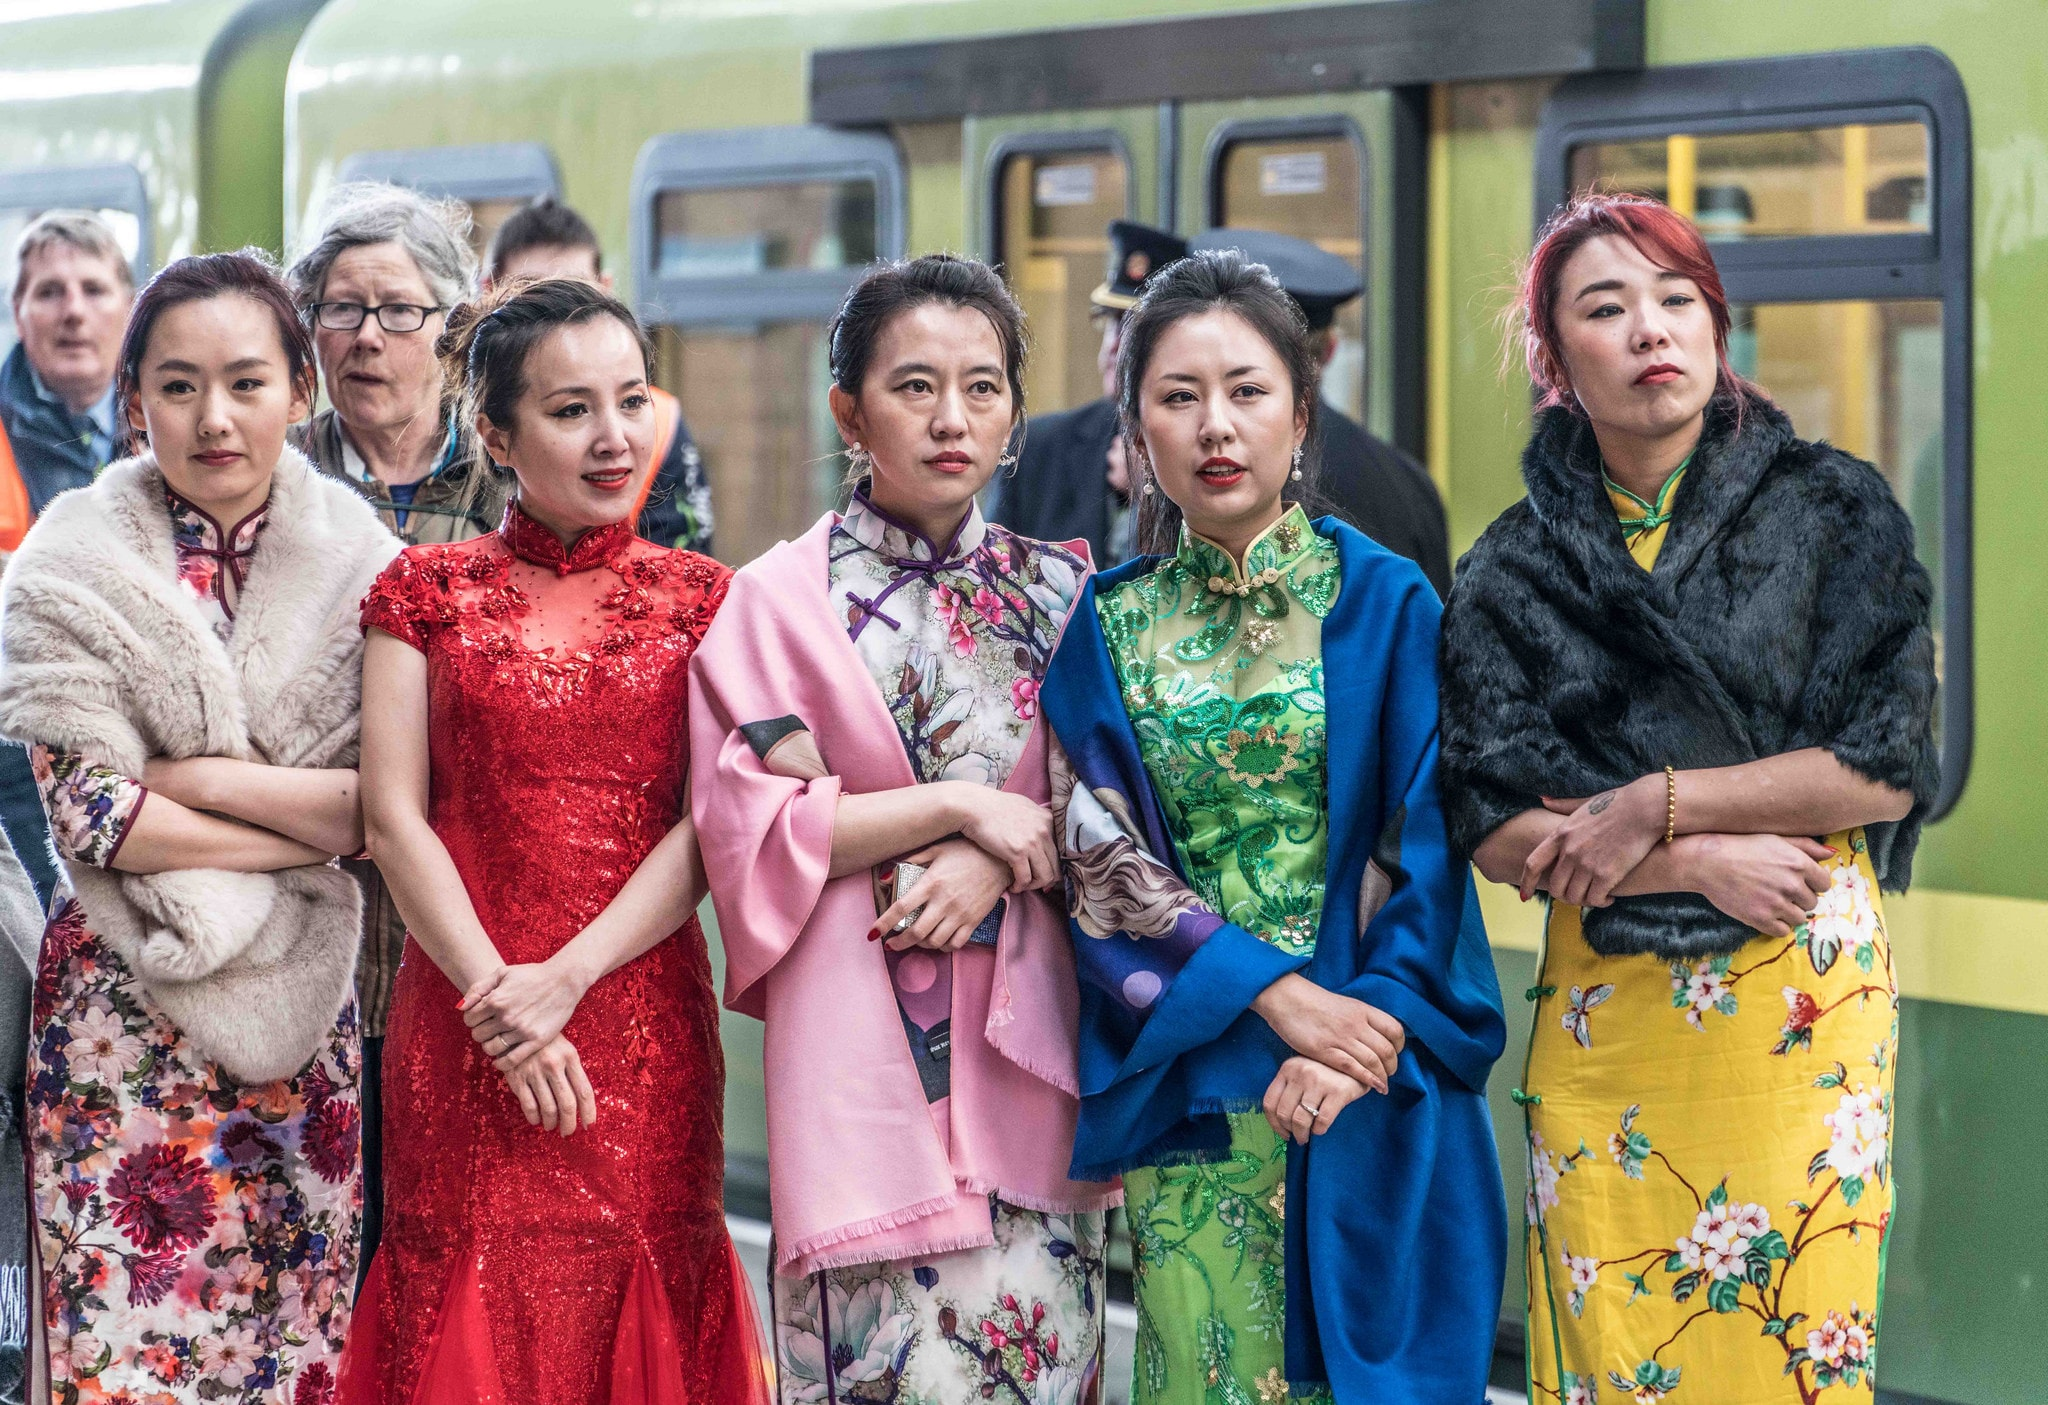no_mask: (808, 249, 1039, 525), (1106, 257, 1312, 535), (1518, 192, 1731, 449), (474, 280, 663, 535), (129, 249, 300, 510), (302, 192, 455, 443)
